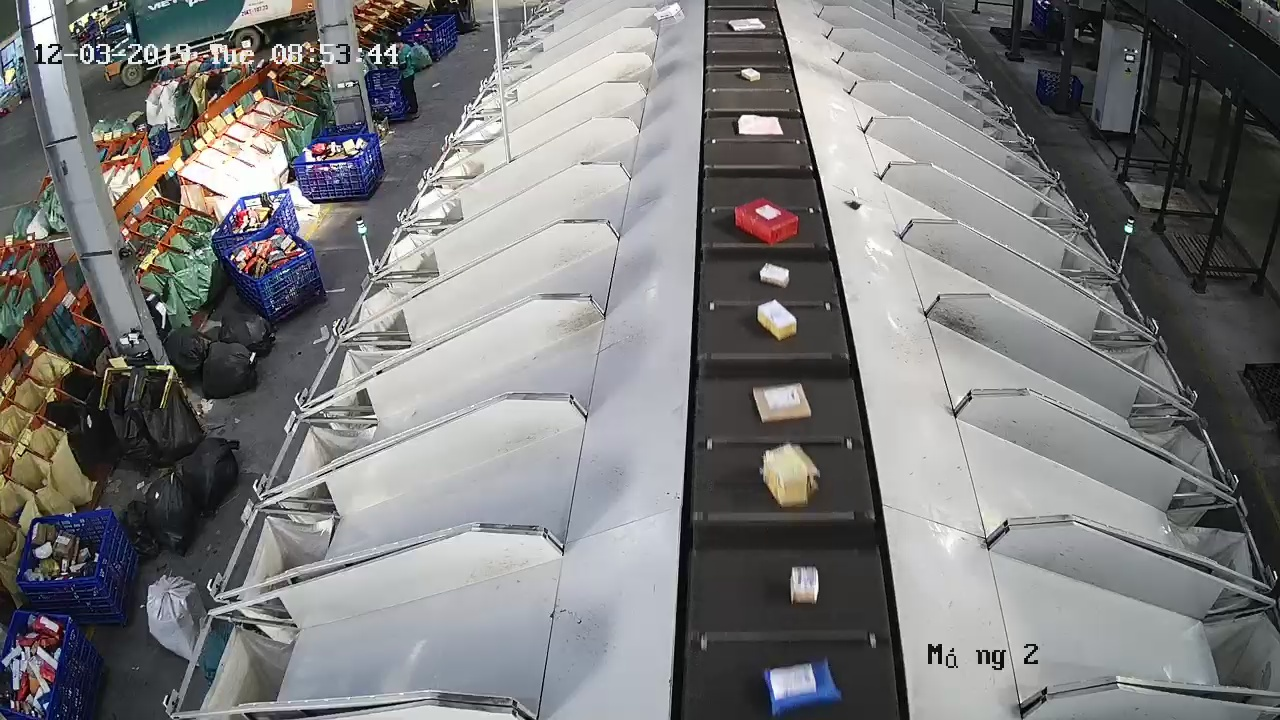parcel: (761, 656, 844, 720), (760, 442, 823, 510), (733, 196, 801, 246), (750, 380, 814, 425), (755, 297, 799, 342), (787, 564, 821, 607), (736, 113, 784, 138), (758, 261, 791, 289), (844, 195, 863, 211)
